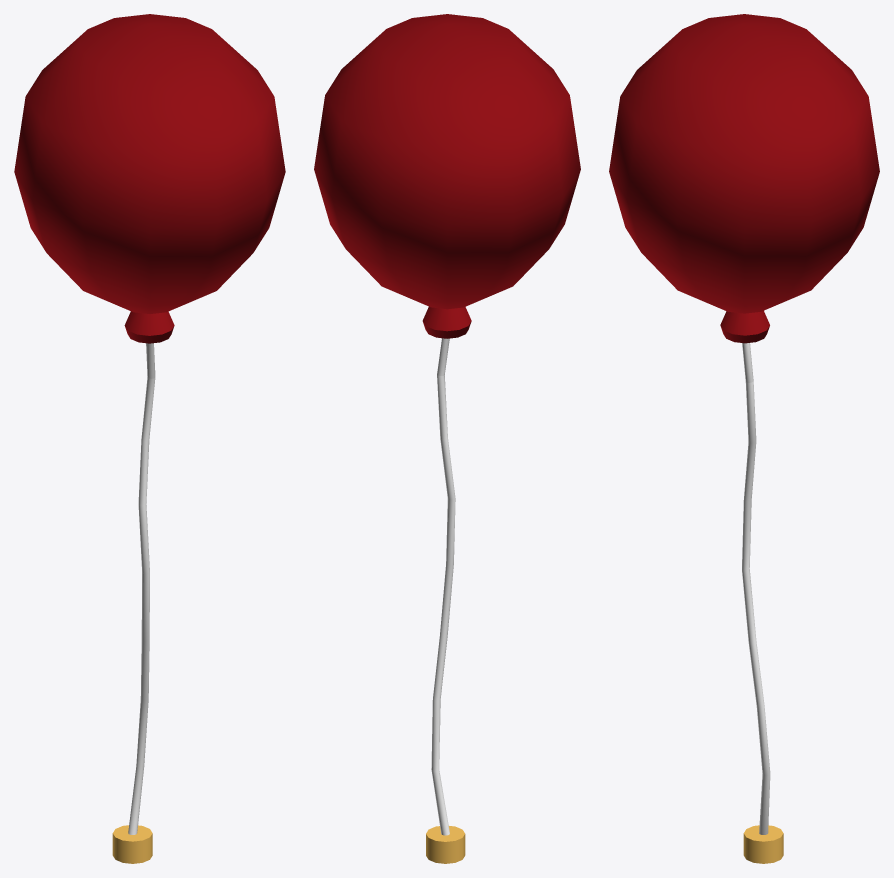
Rendered from Pungsun1-3.fbx.
3 renders of one model, left to right at view 1: azimuth 30°, elevation 25°; view 2: azimuth 150°, elevation 25°; view 3: azimuth 270°, elevation 25°, orthographic.
Parts seen in each view (by area): view 1: Pungsun1-3; view 2: Pungsun1-3; view 3: Pungsun1-3.
Part boxes in pixels (x1,y1,x2,y2): Pungsun1-3: (14, 14, 285, 863); Pungsun1-3: (314, 14, 580, 863); Pungsun1-3: (609, 14, 879, 863).
Size of the model in its own units: 0.2115 by 0.7189 by 0.2115.
